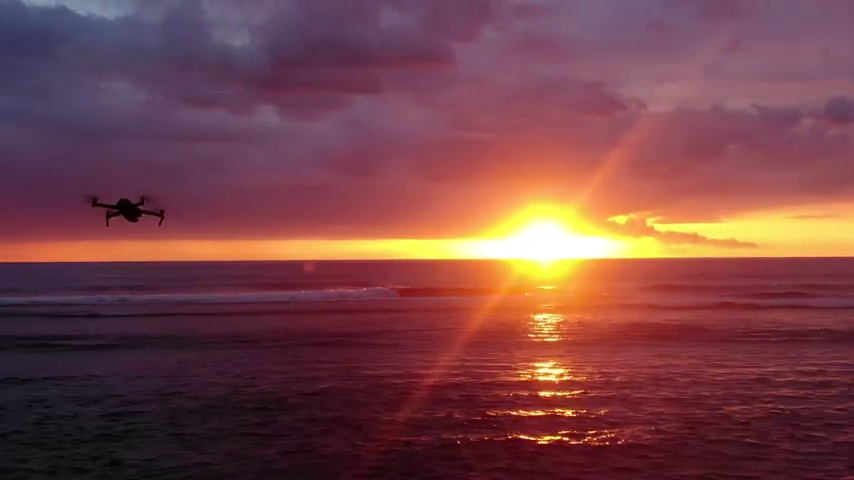drone: (90, 196, 166, 226)
